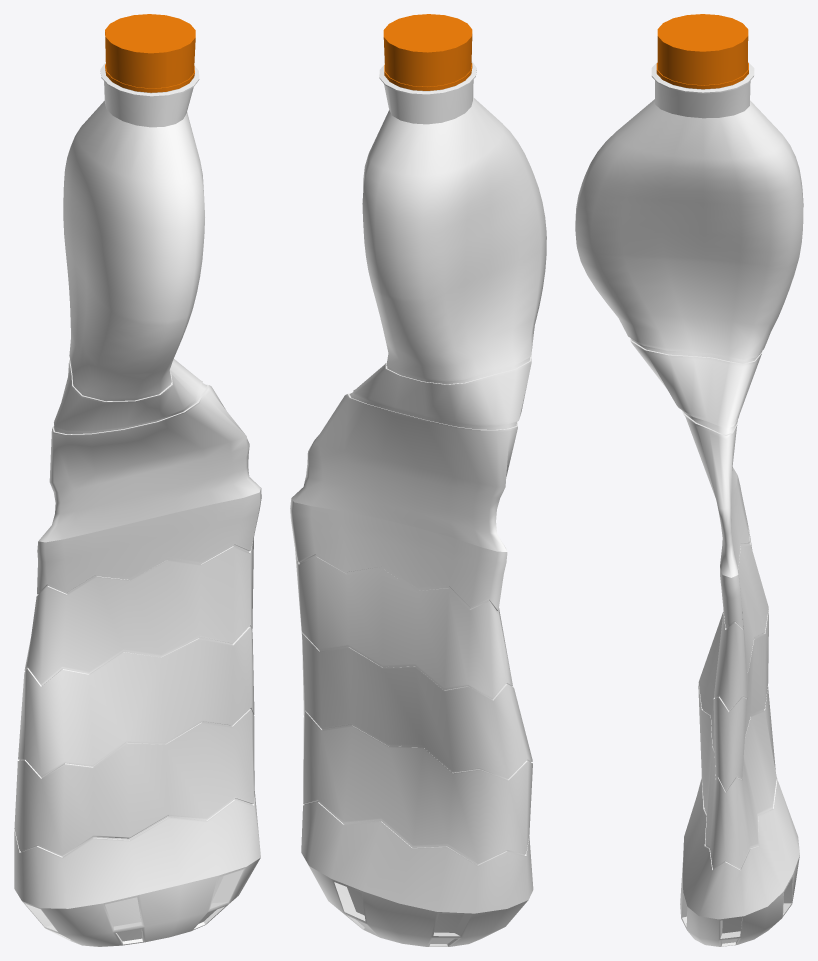
Rendered from chai7.glb.
3 renders of one model, left to right at view 1: azimuth 30°, elevation 25°; view 2: azimuth 150°, elevation 25°; view 3: azimuth 270°, elevation 25°, orthographic. The views are drawn at different scales.
Parts seen in each view (by area): view 1: Cylinder002_green bottle _0, Cylinder002_Red cap_0; view 2: Cylinder002_green bottle _0, Cylinder002_Red cap_0; view 3: Cylinder002_green bottle _0, Cylinder002_Red cap_0.
Part boxes in pixels (<box>): Cylinder002_green bottle _0: <box>14,62,261,946</box>; Cylinder002_Red cap_0: <box>105,14,195,92</box>; Cylinder002_green bottle _0: <box>290,61,546,946</box>; Cylinder002_Red cap_0: <box>383,14,472,90</box>; Cylinder002_green bottle _0: <box>575,62,803,946</box>; Cylinder002_Red cap_0: <box>656,14,748,89</box>.
Bounding box in the file's own units: 0.0197 × 0.0701 × 0.0164.
